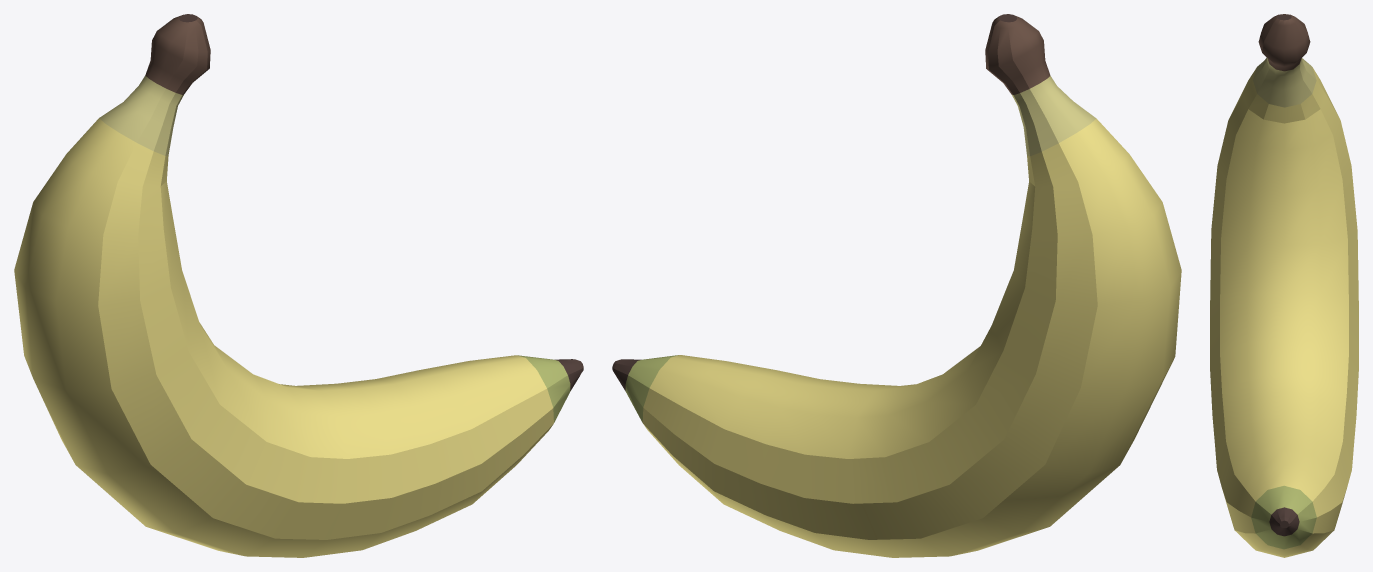
Rendered from atoll_pf_banana.fbx.
3 renders of one model, left to right at view 1: azimuth 30°, elevation 25°; view 2: azimuth 150°, elevation 25°; view 3: azimuth 270°, elevation 25°, orthographic. The views are drawn at different scales.
Visible parts, largest first — view 1: Banana; view 2: Banana; view 3: Banana.
Part boxes in pixels (<box>): Banana: <box>14,14,583,557</box>; Banana: <box>612,14,1181,557</box>; Banana: <box>1210,14,1358,557</box>.
Bounding box in the file's own units: 17.74 × 17.22 × 5.16.
